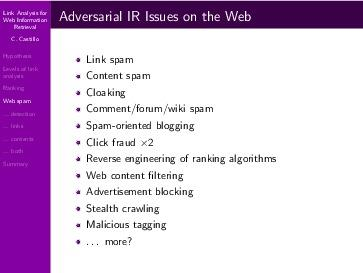paragraph: (83, 47, 293, 267)
title: (58, 2, 261, 29)
